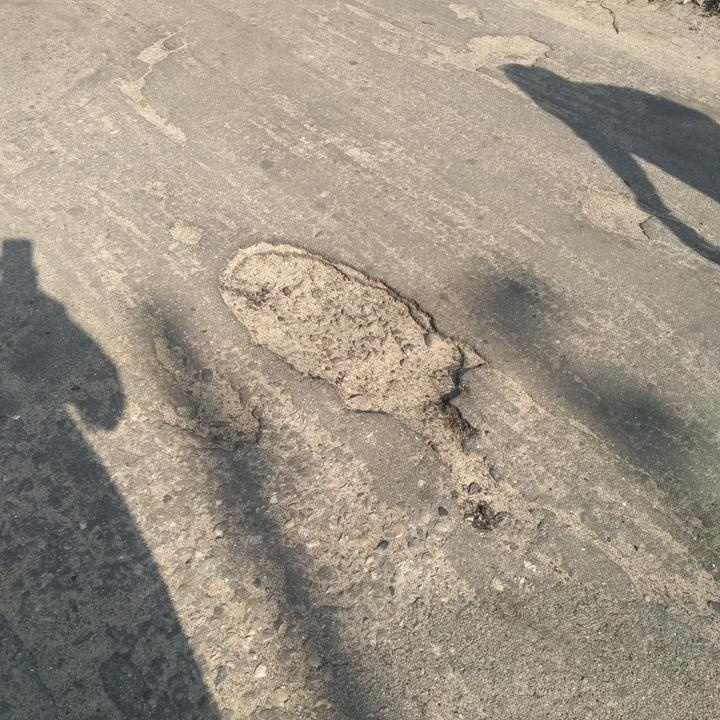pothole: (216, 234, 508, 491), (145, 328, 265, 450), (112, 32, 201, 146), (570, 183, 661, 243), (451, 30, 552, 79), (166, 217, 208, 247), (446, 0, 483, 24)
